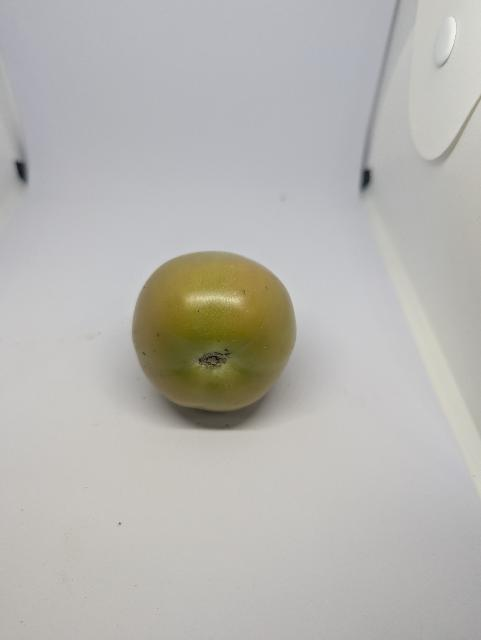breaker: (133, 252, 297, 412)
